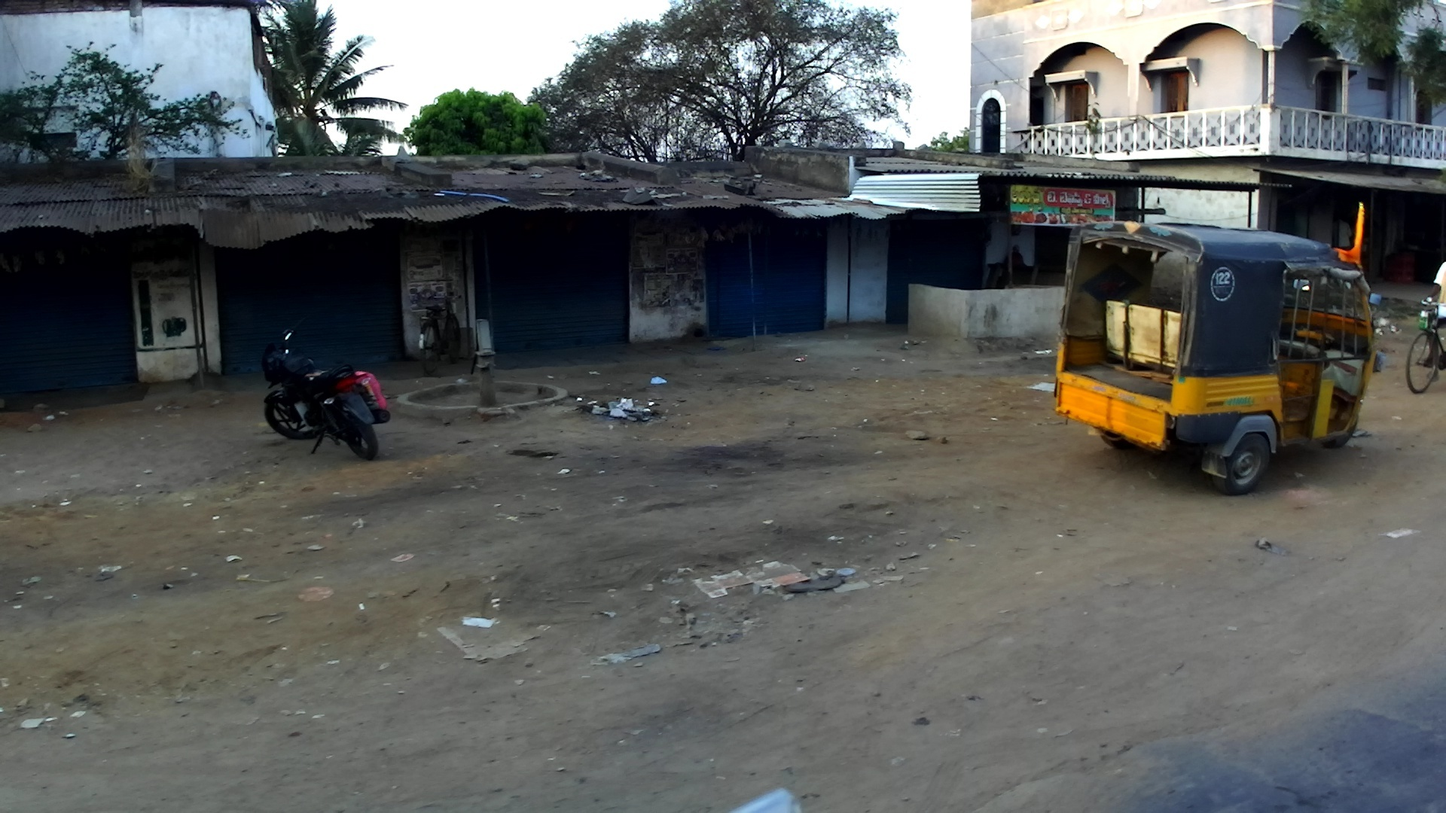autorickshaw: (1053, 202, 1387, 497)
bicycle: (416, 293, 463, 378), (1405, 297, 1446, 394)
motorcycle: (258, 327, 391, 459)
rider: (1421, 262, 1446, 364)
